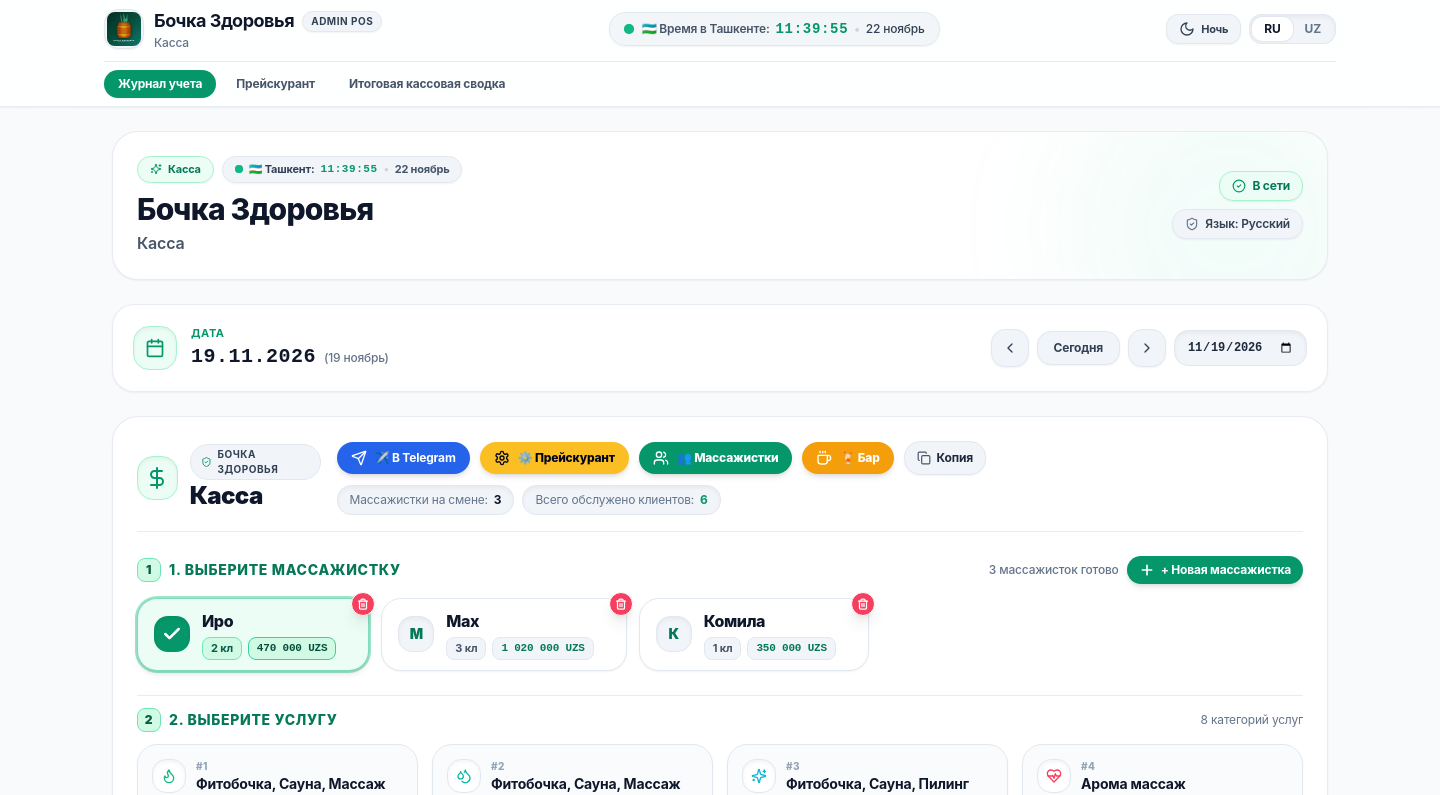
Test: Feature F18: Client Bar Items & Total Bill Calculation › 1. Translation Keys & Mobile View Integrity › renders translated selectedMaster and selectedService labels without raw keys in Uzbek
Note: Switch to Uzbek
Click the button with test id "lang-btn-uz": (1313, 29) [1293, 17, 1333, 41]
(page scrolled)
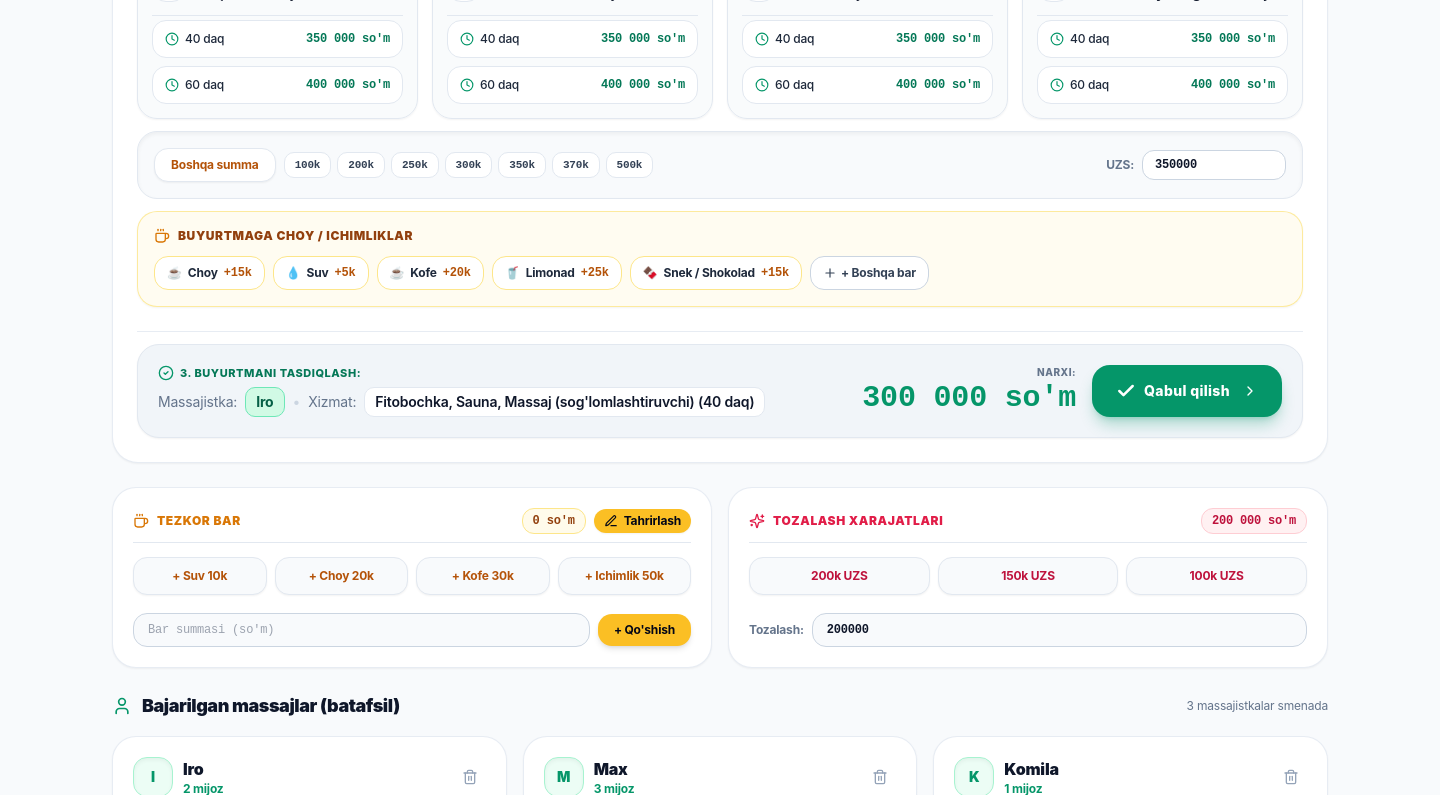
Expected: the text "Massajistka:" is shown, [158, 392, 237, 412]
Expected: the text "Xizmat:" is shown, [308, 392, 356, 412]
